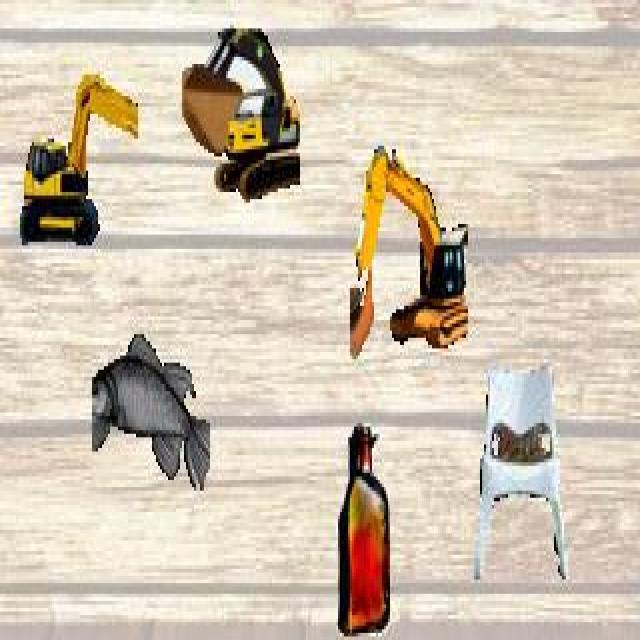Other Objects: (337, 424, 391, 634)
